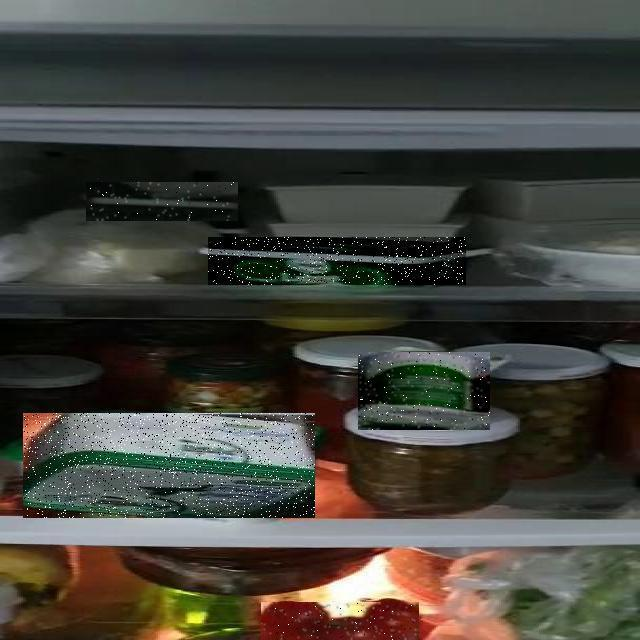Cheese: (23, 413, 315, 518)
Cream: (208, 237, 466, 285), (87, 182, 239, 221)
Tomato Paste: (261, 602, 419, 640)
Yoghurt: (358, 352, 490, 430)
